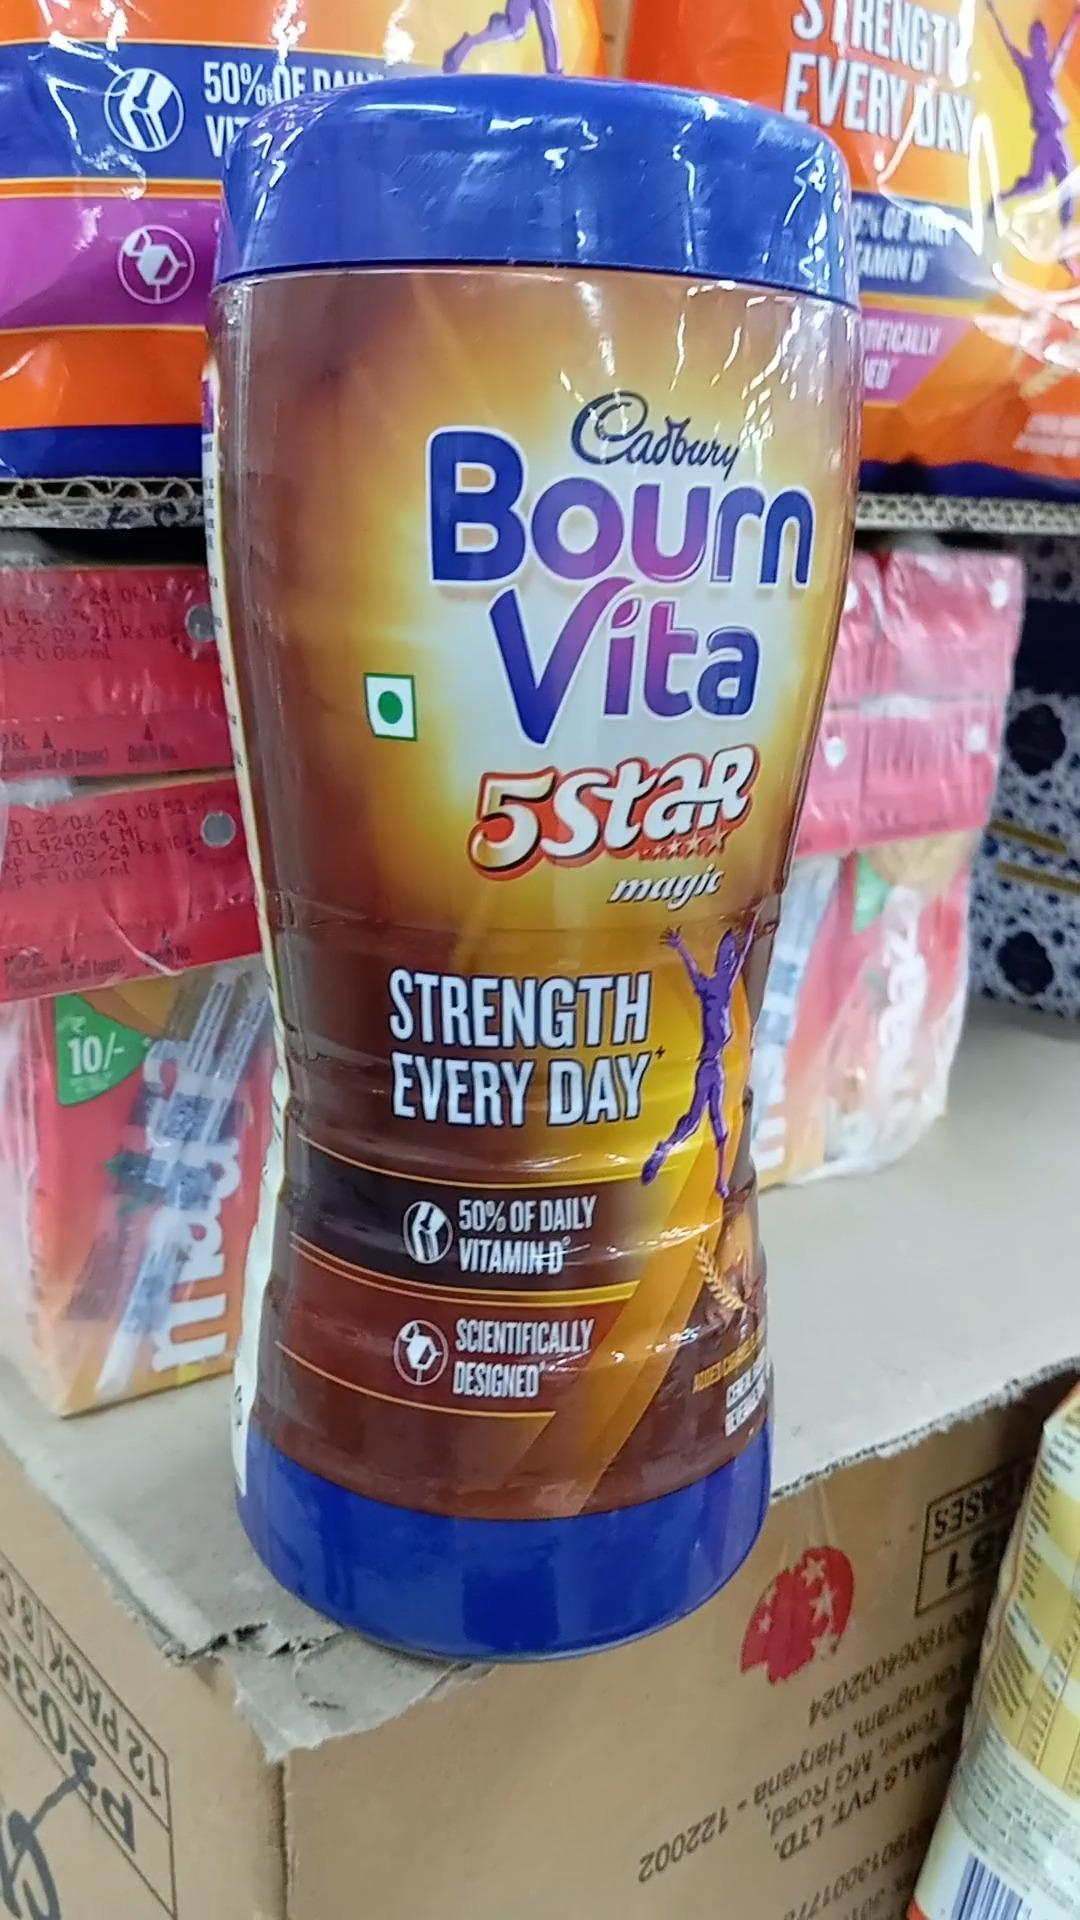BOURN_VITA_FIVE_STAR_MAGIC_500_G_JAR: (206, 83, 868, 1676)
